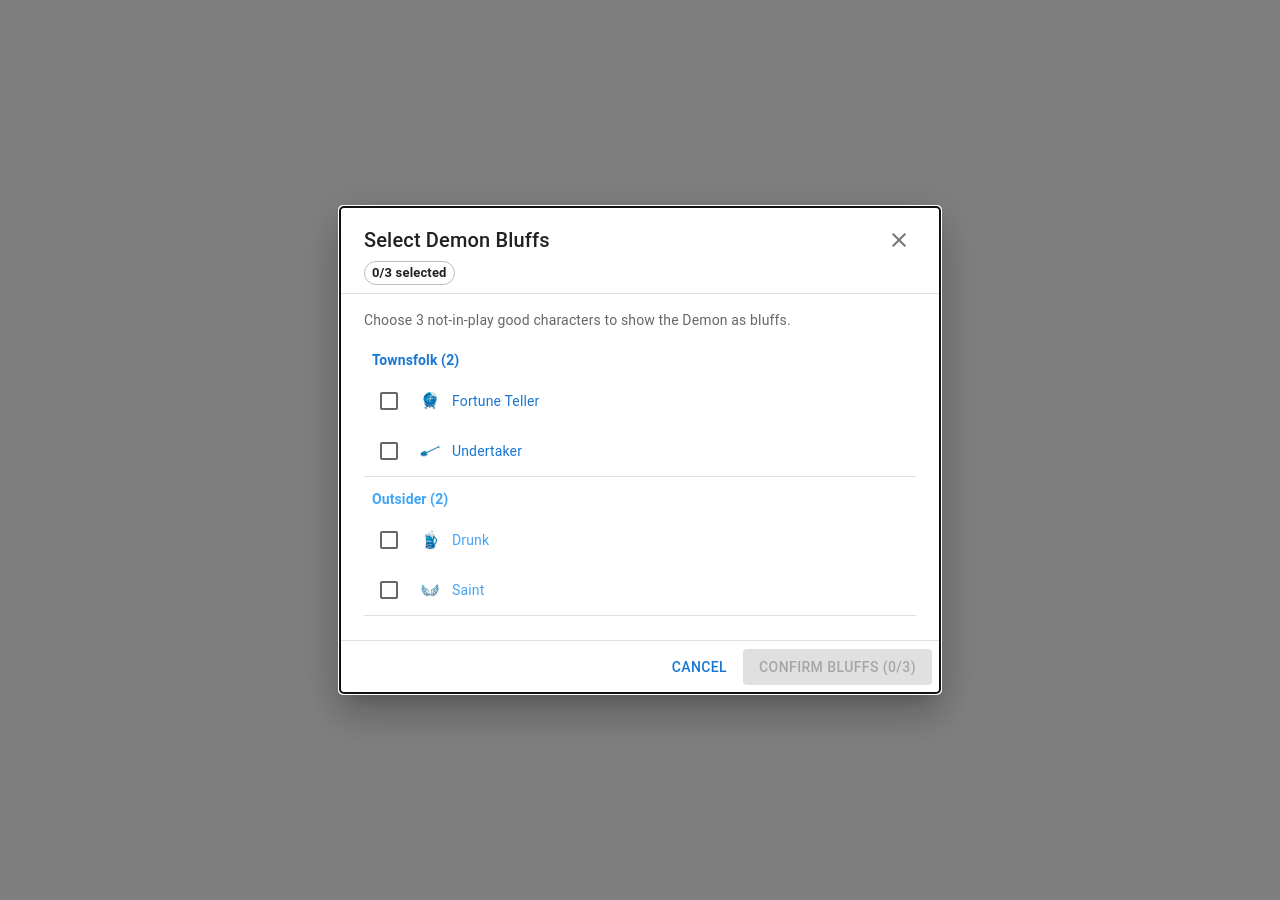
it: DemonBluffSelection › allows deselecting a bluff
Click the button with test id "bluff-toggle-fortuneteller": (458, 401) [377,387,540,415]
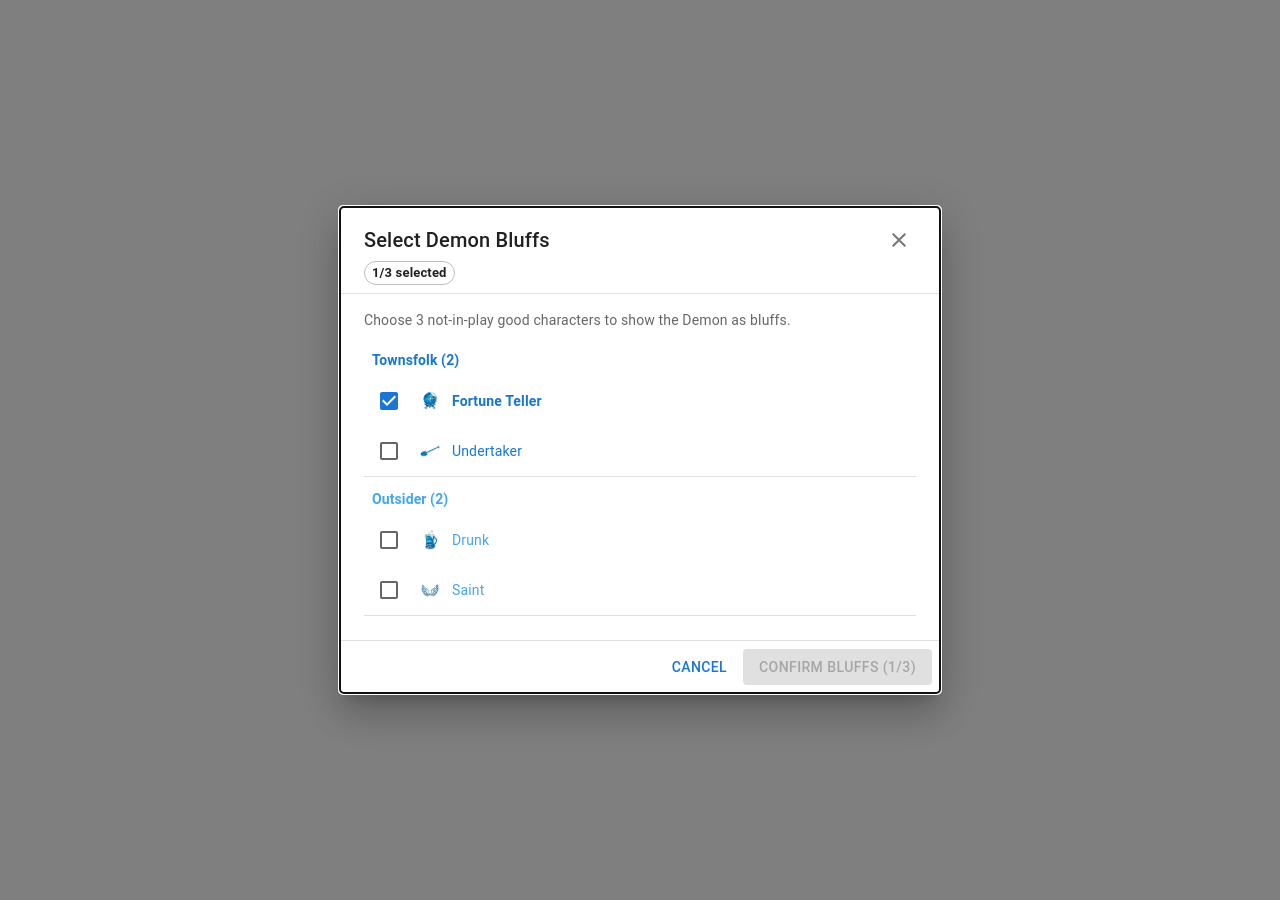
expect the element with test id "bluff-count-chip" shows "1/3": met, box [372,265,446,280]
Click the button with test id "bluff-toggle-fortuneteller": (459, 401) [377,387,542,415]
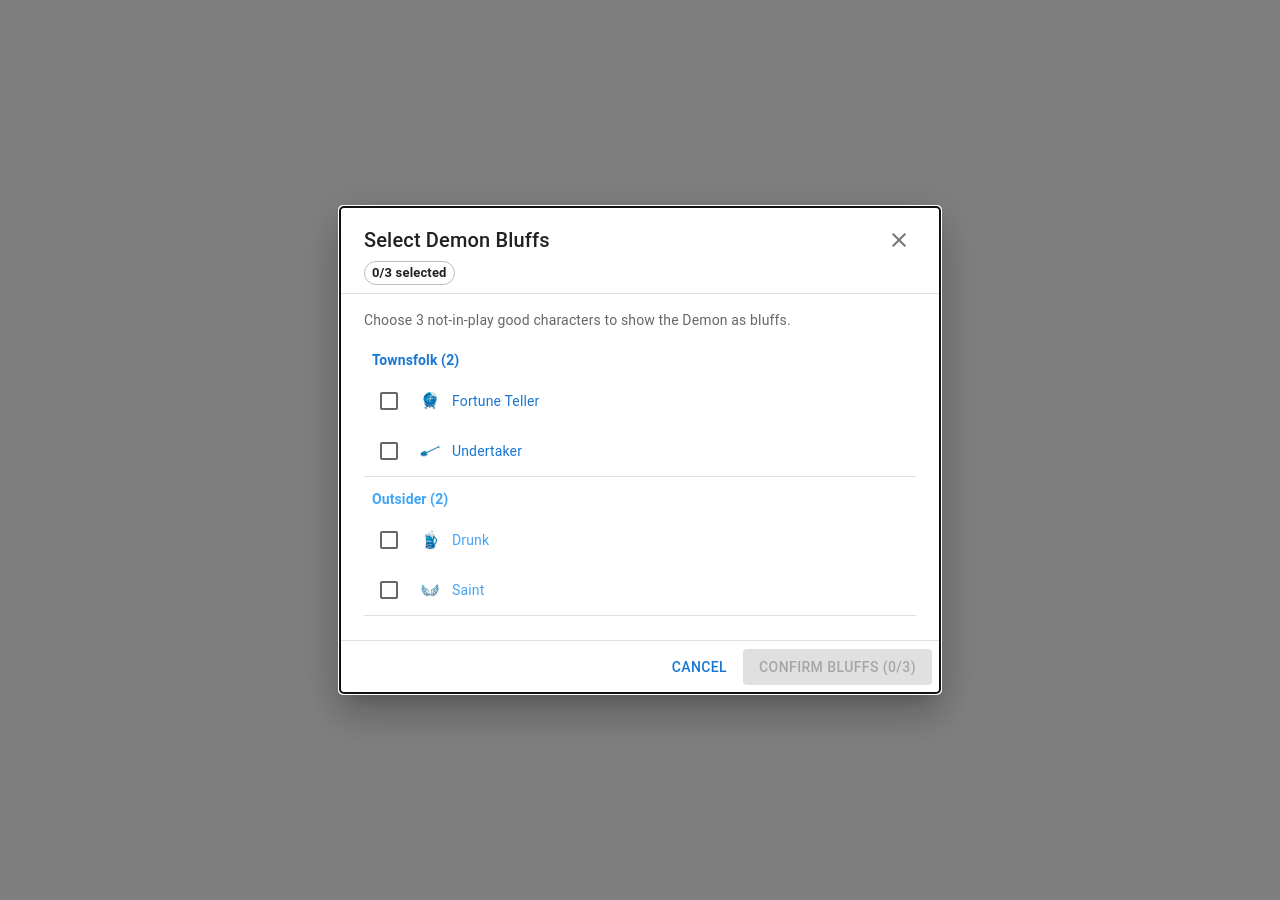
expect the element with test id "bluff-count-chip" shows "0/3": met, box [372,265,446,280]
